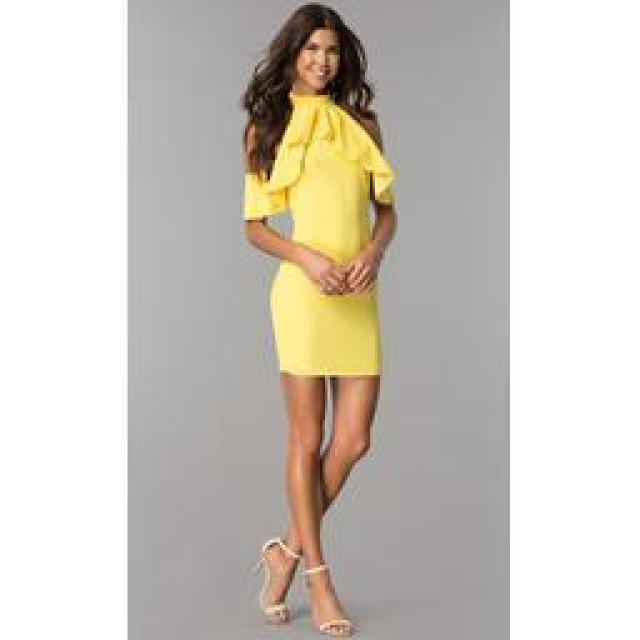dress: (244, 93, 396, 375)
